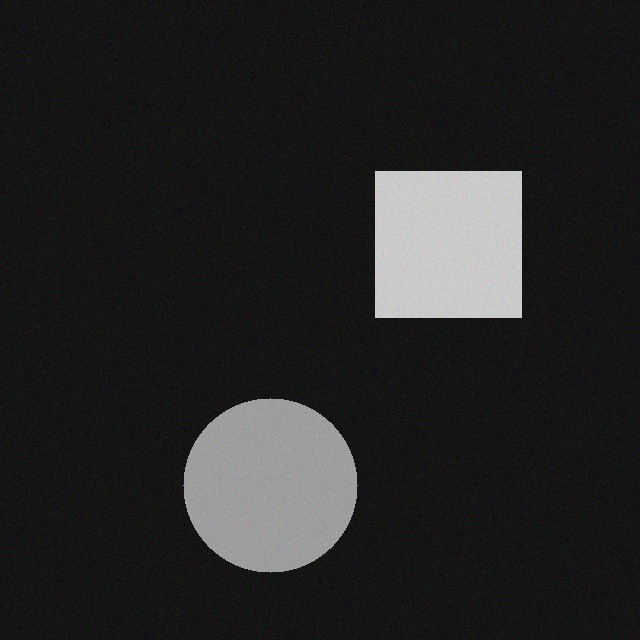circle: (183, 396, 357, 570)
square: (375, 169, 521, 315)
